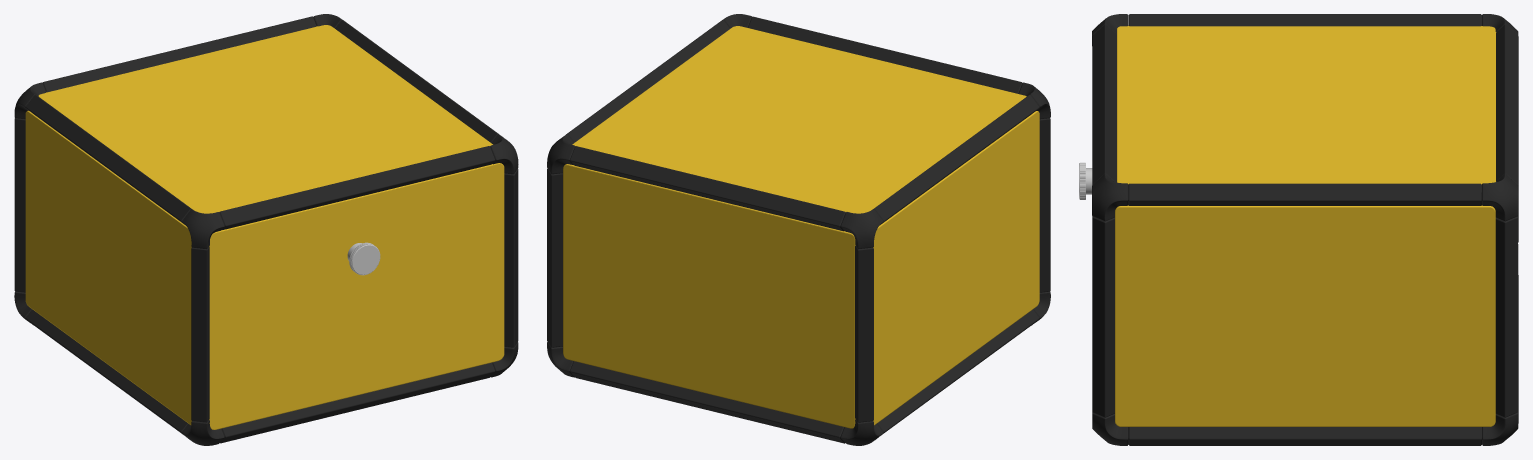
The picture shows the model from 3 angles, left to right: view 1: azimuth 30°, elevation 25°; view 2: azimuth 150°, elevation 25°; view 3: azimuth 270°, elevation 25°; orthographic projection. The views are drawn at different scales.
Parts seen in each view (by area): view 1: 374x374x229; view 2: 374x374x229; view 3: 374x374x229.
Boxes of the visible parts, x1=… form: 374x374x229: x1=14, y1=14, x2=518, y2=445; 374x374x229: x1=547, y1=14, x2=1050, y2=445; 374x374x229: x1=1079, y1=14, x2=1518, y2=445.
Bounding box in the file's own units: 0.4517 × 0.3067 × 0.4646.
